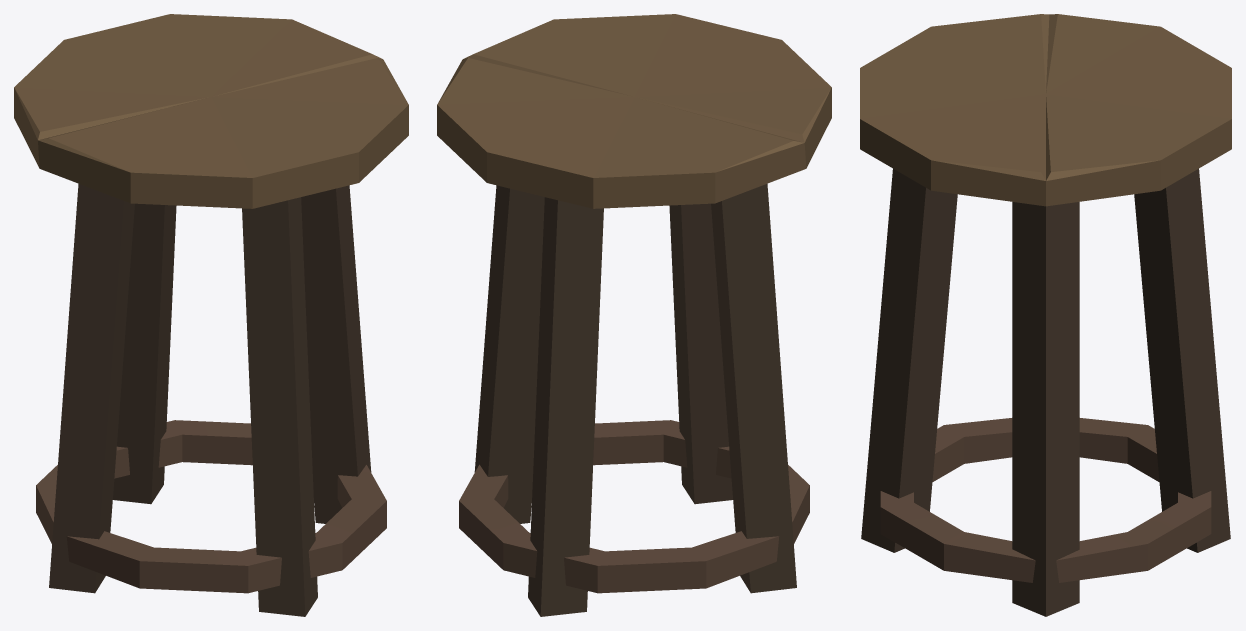
Rendered from Stool_1B.fbx.
The picture shows the model from 3 angles, left to right: view 1: azimuth 30°, elevation 25°; view 2: azimuth 150°, elevation 25°; view 3: azimuth 270°, elevation 25°; orthographic projection.
Parts seen in each view (by area): view 1: pCylinder280; view 2: pCylinder280; view 3: pCylinder280.
Boxes of the visible parts, bbox=[...] form: pCylinder280: bbox=[14, 14, 408, 616]; pCylinder280: bbox=[437, 14, 831, 616]; pCylinder280: bbox=[860, 14, 1231, 616].
Size of the model in its own units: 70 by 88 by 66.57.
